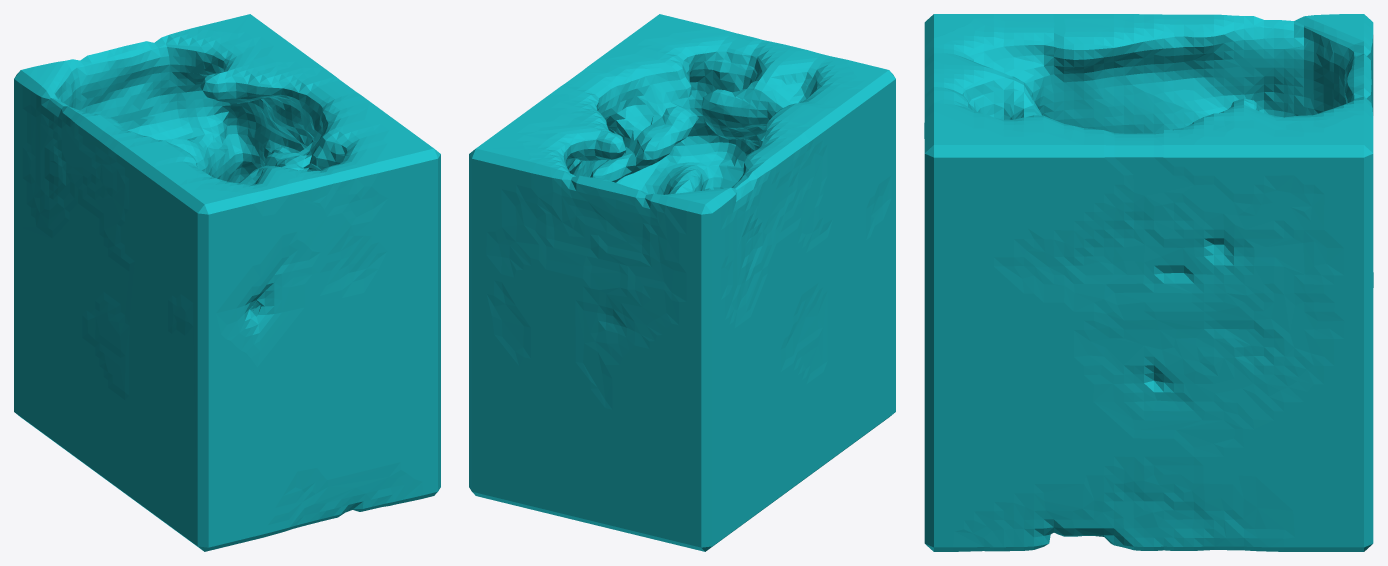
3 renders of one model, left to right at view 1: azimuth 30°, elevation 25°; view 2: azimuth 150°, elevation 25°; view 3: azimuth 270°, elevation 25°, orthographic. The views are drawn at different scales.
Parts seen in each view (by area): view 1: Liquid_Domain; view 2: Liquid_Domain; view 3: Liquid_Domain.
Boxes of the visible parts, x1,y1,x2,y2 form: Liquid_Domain: (14, 14, 440, 551); Liquid_Domain: (469, 14, 895, 551); Liquid_Domain: (924, 14, 1373, 551).
Size of the model in its own units: 79.09 by 108 by 108.
